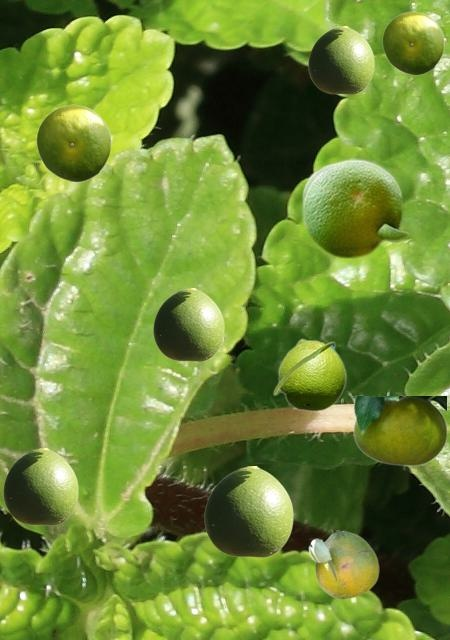dalandan: (300, 156, 410, 258), (204, 466, 292, 556), (353, 396, 445, 465), (36, 104, 110, 181), (3, 448, 77, 524), (272, 338, 346, 411), (153, 288, 223, 360), (308, 530, 378, 598), (308, 26, 373, 93), (382, 11, 443, 74), (301, 162, 330, 195)
